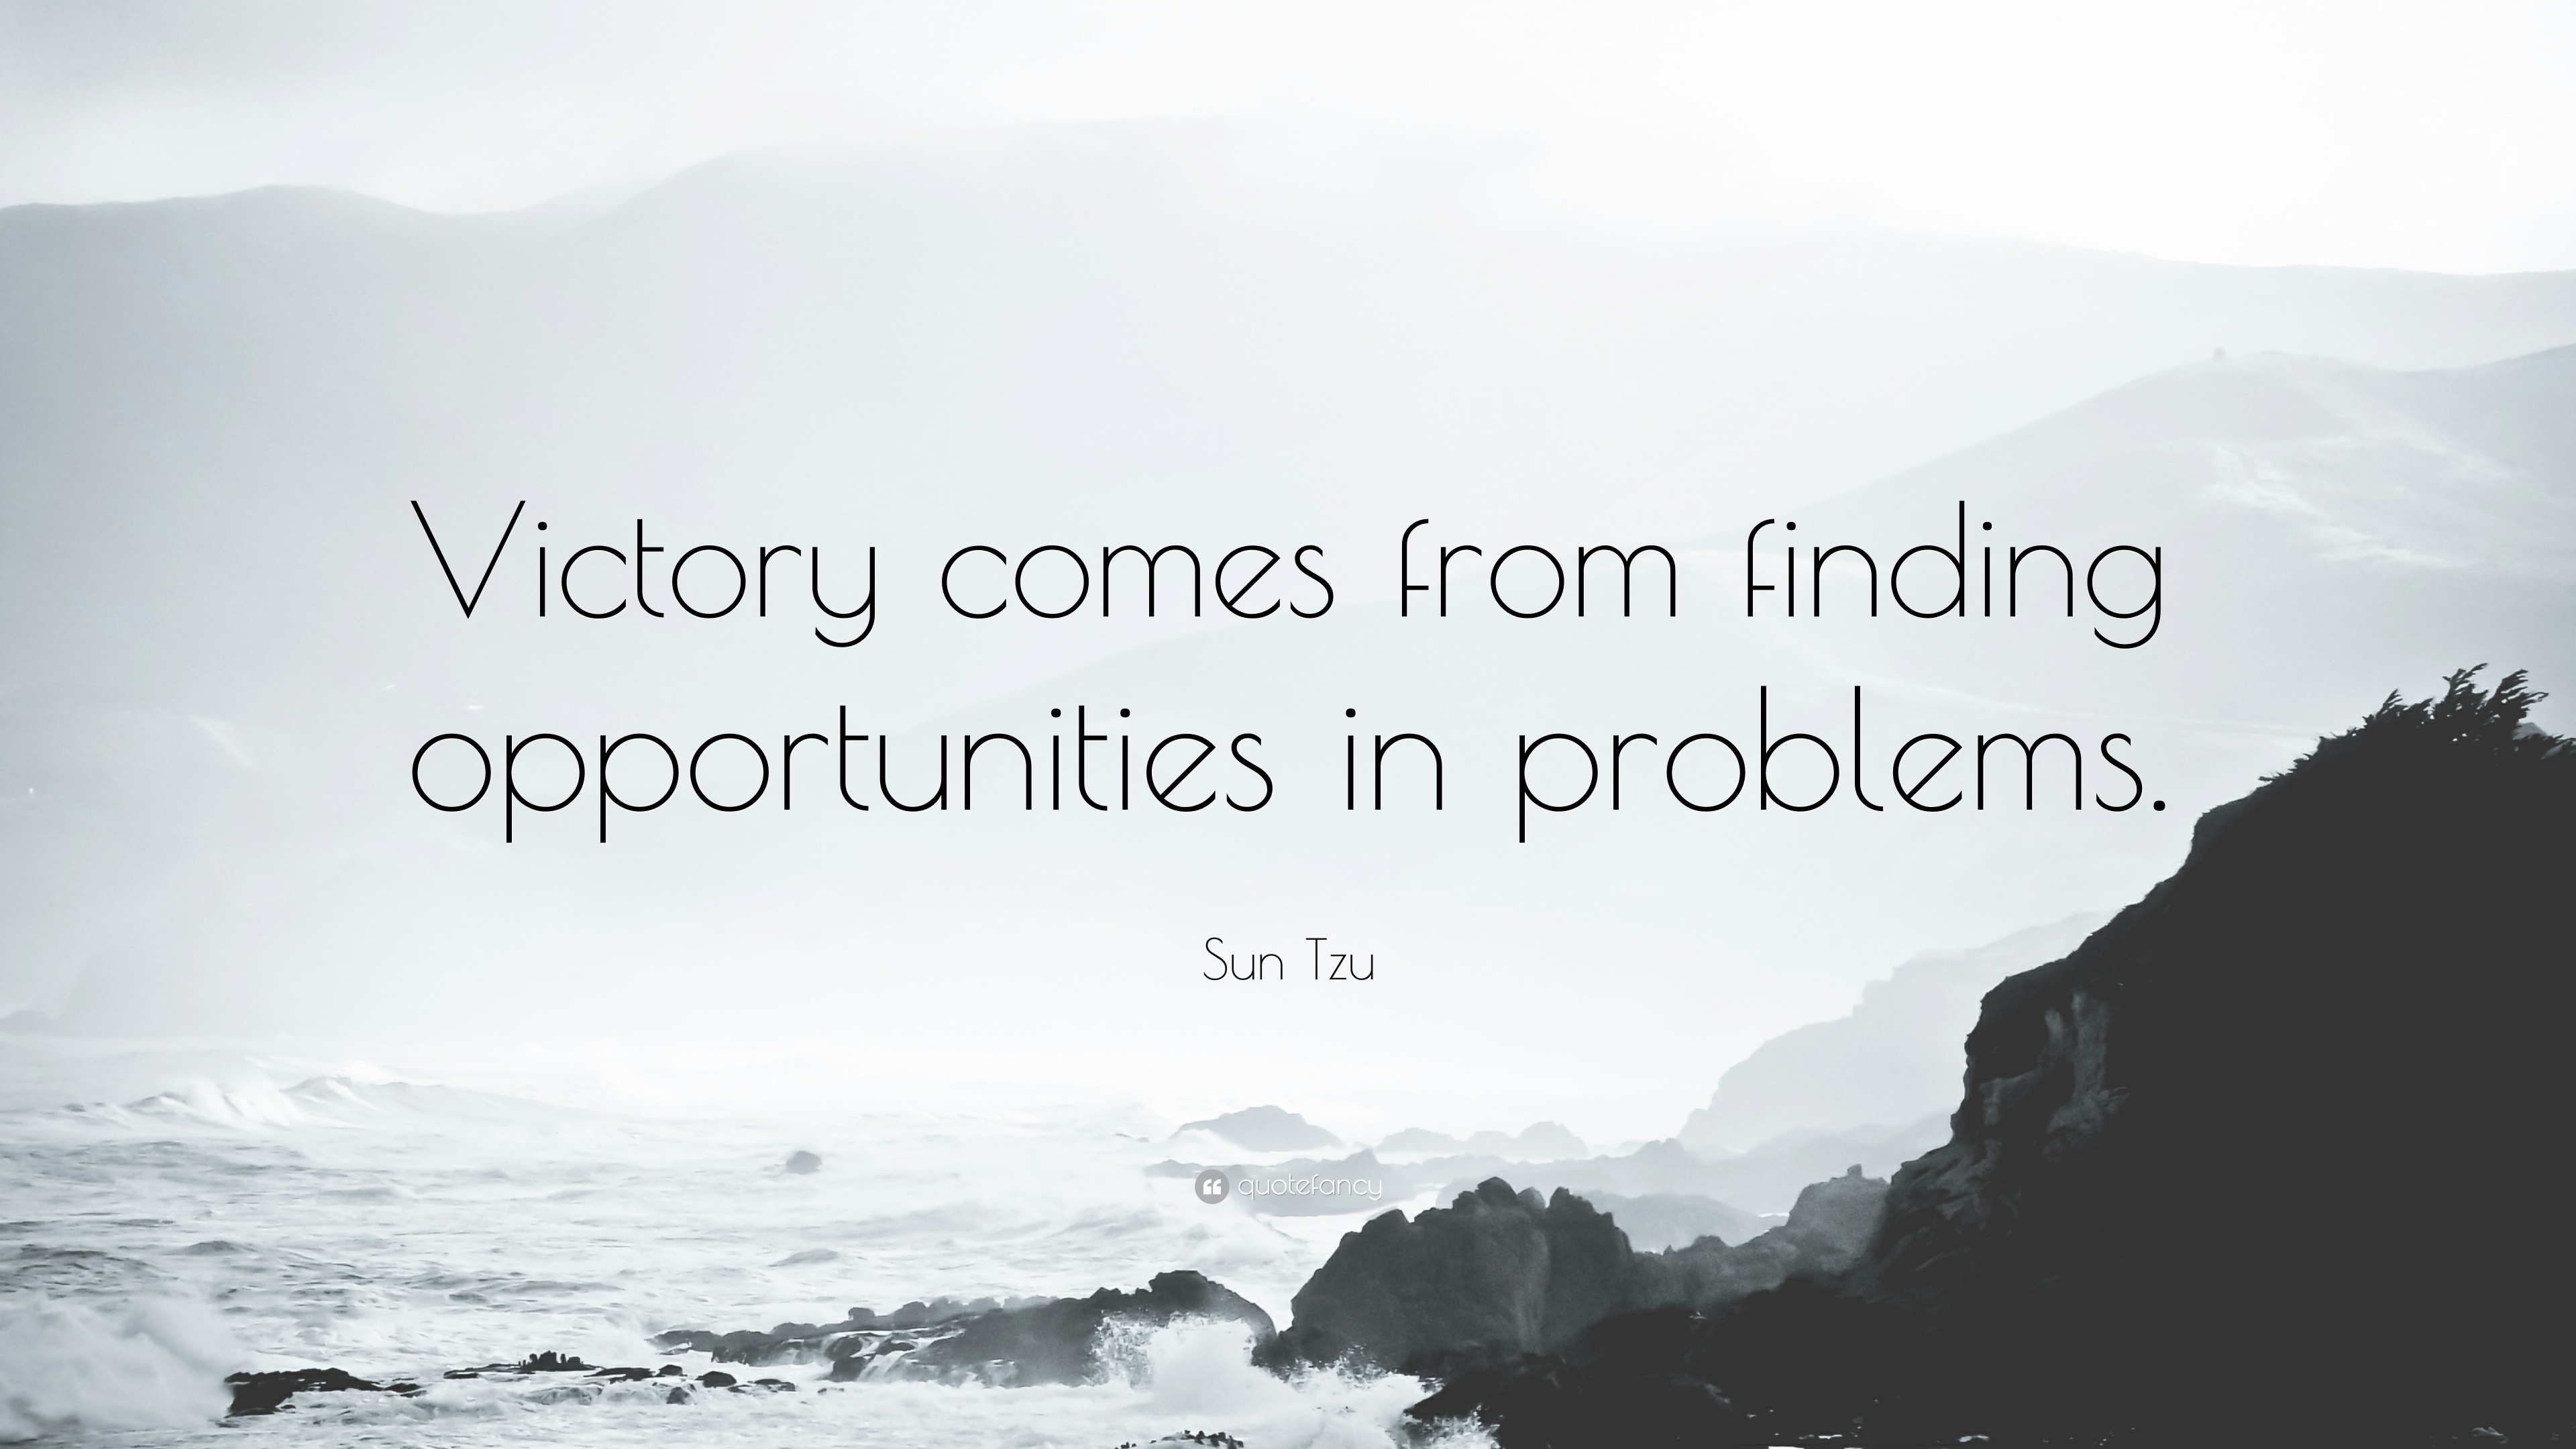latin: (391, 488, 2178, 817), (1200, 932, 1384, 989), (1237, 1168, 1387, 1207)
